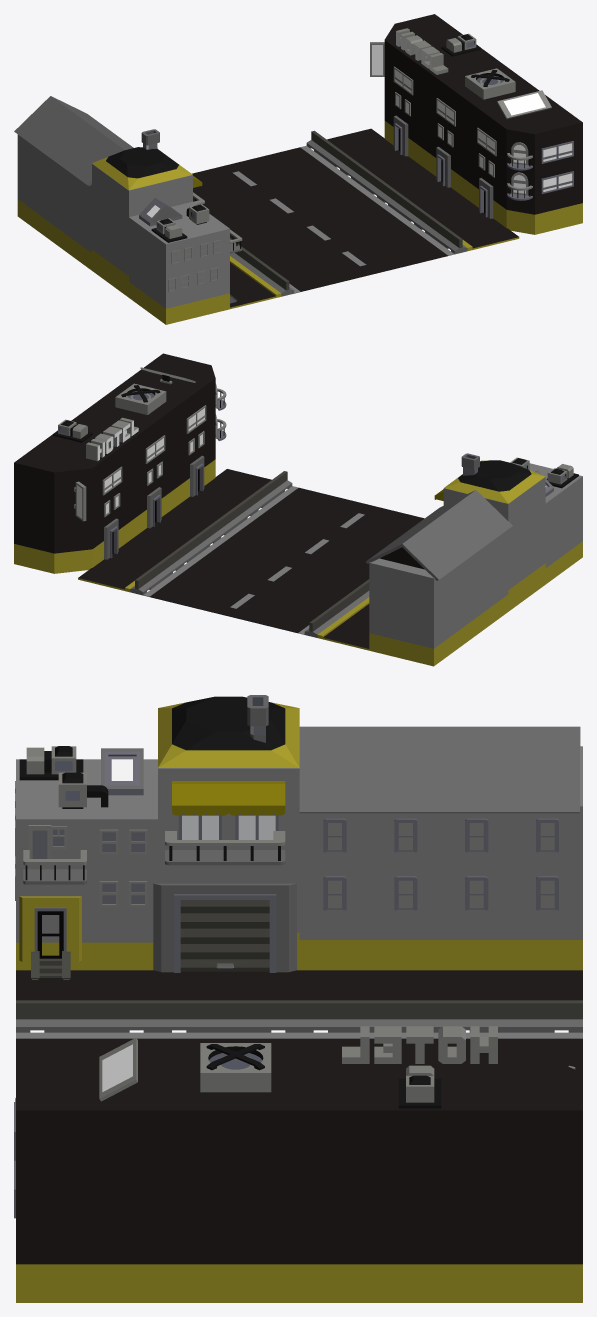
3 views of the same model, one above another, from view 1: azimuth 30°, elevation 25°; view 2: azimuth 150°, elevation 25°; view 3: azimuth 270°, elevation 25° (orthographic). The views are drawn at different scales.
Visible parts, largest first — view 1: mergedBlocks; view 2: mergedBlocks; view 3: mergedBlocks.
Part boxes in pixels (bbox=[...]): mergedBlocks: bbox=[14, 14, 582, 324]; mergedBlocks: bbox=[14, 353, 582, 666]; mergedBlocks: bbox=[14, 695, 582, 1302].
Bounding box in the file's own units: 131 × 40 × 80.3.
